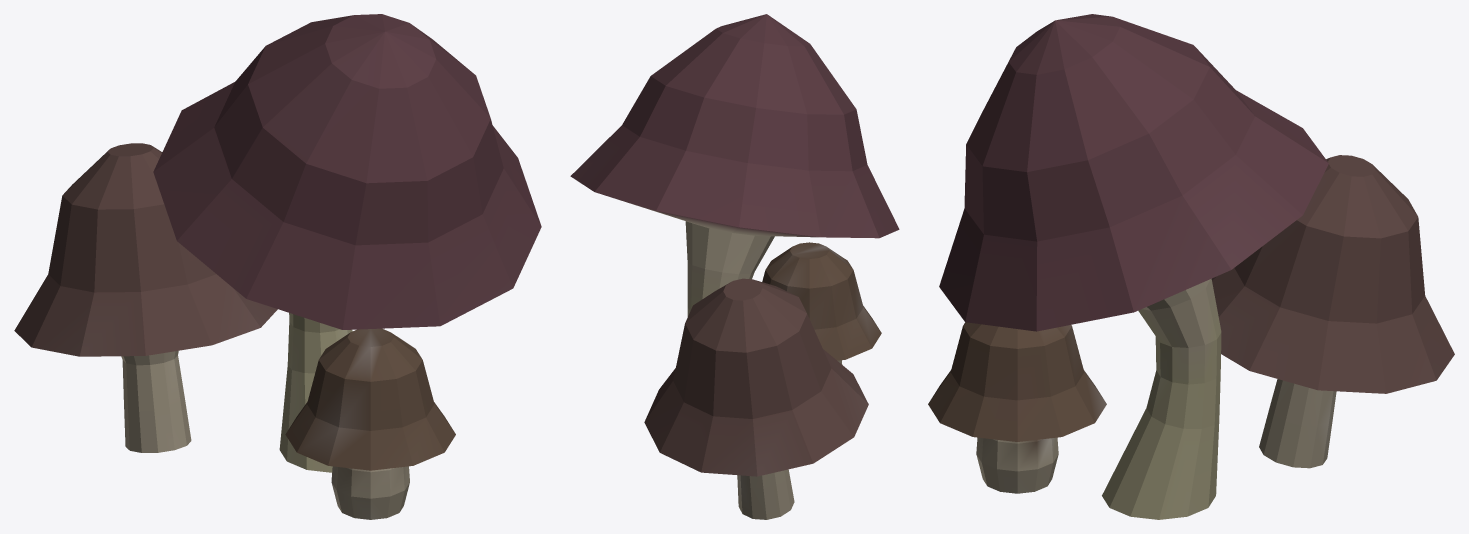
Rendered from grzybki.fbx.
3 renders of one model, left to right at view 1: azimuth 30°, elevation 25°; view 2: azimuth 150°, elevation 25°; view 3: azimuth 270°, elevation 25°, orthographic. The views are drawn at different scales.
Parts seen in each view (by area): view 1: Cylinder.002; view 2: Cylinder.002; view 3: Cylinder.002.
Part boxes in pixels (bbox=[...]): Cylinder.002: bbox=[14, 14, 541, 519]; Cylinder.002: bbox=[570, 14, 899, 519]; Cylinder.002: bbox=[928, 14, 1454, 519].
Size of the model in its own units: 136 by 154 by 148.
